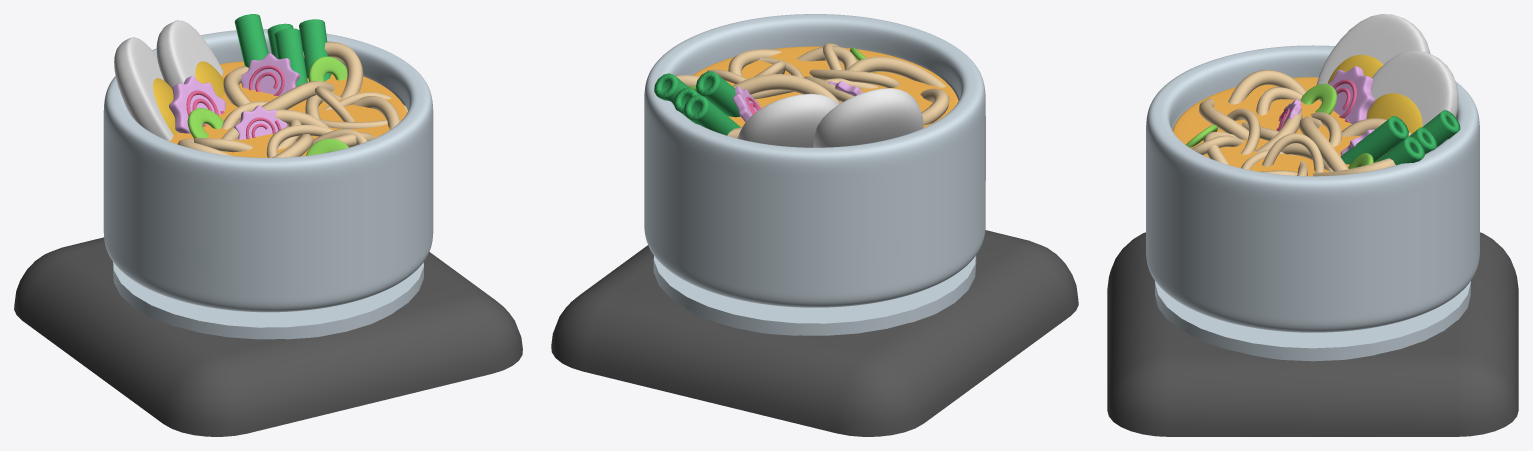
Rendered from ramen_joined.glb.
The picture shows the model from 3 angles, left to right: view 1: azimuth 30°, elevation 25°; view 2: azimuth 150°, elevation 25°; view 3: azimuth 270°, elevation 25°; orthographic projection. The views are drawn at different scales.
Parts seen in each view (by area): view 1: pot, stoveBase, noodles, stoveIron, eggWhite, soup, fishCakeLight, onionDark, onionLight, eggYolk, fishCakeDark; view 2: pot, stoveBase, stoveIron, eggWhite, noodles, soup, onionDark, fishCakeLight; view 3: pot, stoveBase, noodles, stoveIron, eggWhite, soup, onionDark, fishCakeLight, eggYolk, onionLight, fishCakeDark.
Boxes of the visible parts, left/top/right/bottom form: pot: left=103, top=29, right=433, bottom=312; stoveBase: left=14, top=237, right=522, bottom=436; noodles: left=177, top=41, right=407, bottom=157; stoveIron: left=113, top=262, right=423, bottom=339; eggWhite: left=114, top=20, right=223, bottom=140; soup: left=169, top=61, right=406, bottom=157; fishCakeLight: left=169, top=53, right=300, bottom=139; onionDark: left=234, top=14, right=331, bottom=86; onionLight: left=187, top=56, right=348, bottom=155; eggYolk: left=153, top=61, right=224, bottom=134; fishCakeDark: left=186, top=65, right=284, bottom=139; pot: left=644, top=14, right=985, bottom=307; stoveBase: left=551, top=230, right=1078, bottom=436; stoveIron: left=653, top=255, right=976, bottom=335; eggWhite: left=738, top=88, right=923, bottom=147; noodles: left=675, top=43, right=949, bottom=138; soup: left=692, top=46, right=958, bottom=127; onionDark: left=654, top=71, right=740, bottom=135; fishCakeLight: left=732, top=81, right=862, bottom=122; pot: left=1146, top=45, right=1479, bottom=332; stoveBase: left=1107, top=232, right=1518, bottom=436; noodles: left=1189, top=70, right=1411, bottom=176; stoveIron: left=1155, top=281, right=1470, bottom=361; eggWhite: left=1316, top=14, right=1458, bottom=126; soup: left=1172, top=77, right=1391, bottom=176; onionDark: left=1340, top=110, right=1460, bottom=165; fishCakeLight: left=1279, top=66, right=1374, bottom=155; eggYolk: left=1328, top=54, right=1422, bottom=133; onionLight: left=1185, top=83, right=1373, bottom=168; fishCakeDark: left=1276, top=79, right=1356, bottom=130.
Bounding box in the file's own units: 2.48 × 1.89 × 2.48.
